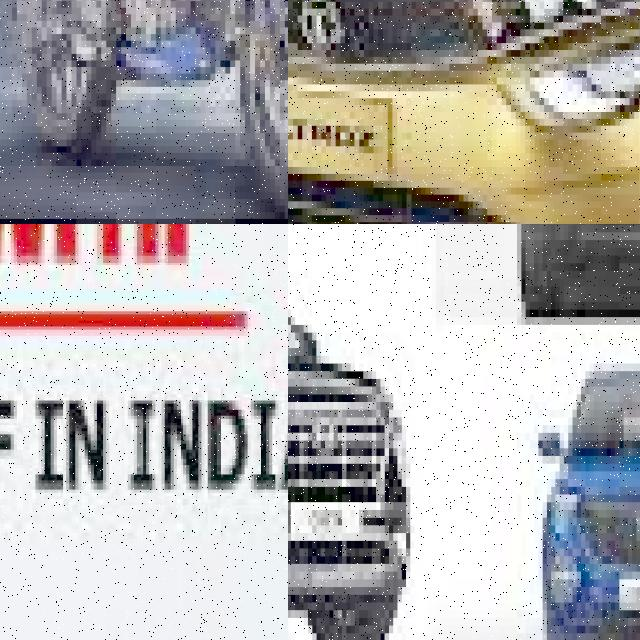bike: (7, 0, 288, 212)
car: (288, 0, 640, 224), (453, 278, 640, 640), (288, 224, 429, 640), (427, 224, 640, 325)
